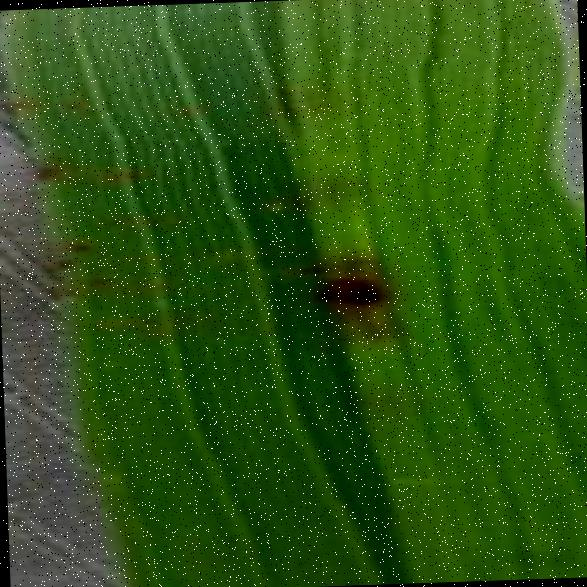Brown_Spot: (302, 260, 390, 316), (25, 151, 64, 189), (292, 255, 328, 280), (132, 308, 166, 332), (66, 234, 96, 256), (86, 269, 113, 289), (126, 248, 150, 268), (8, 94, 30, 115), (61, 96, 85, 115), (117, 164, 142, 182), (103, 214, 125, 228)
